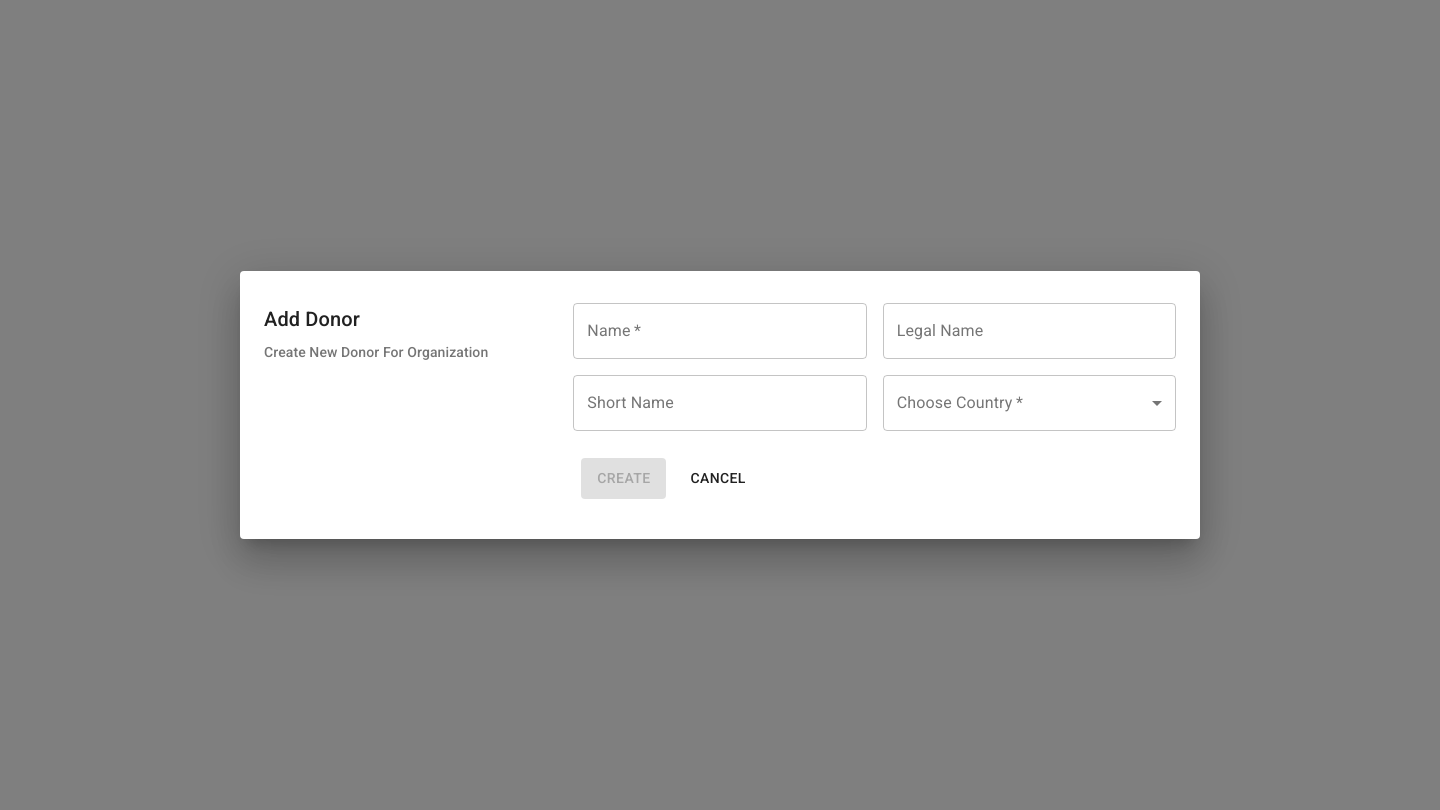
Test: Donor Dialog tests › Submit button enabled
Type "donor name" into the field with test id "donorNameInput" at coordinates (720, 331), box x1=573 y1=303 x2=867 y2=359
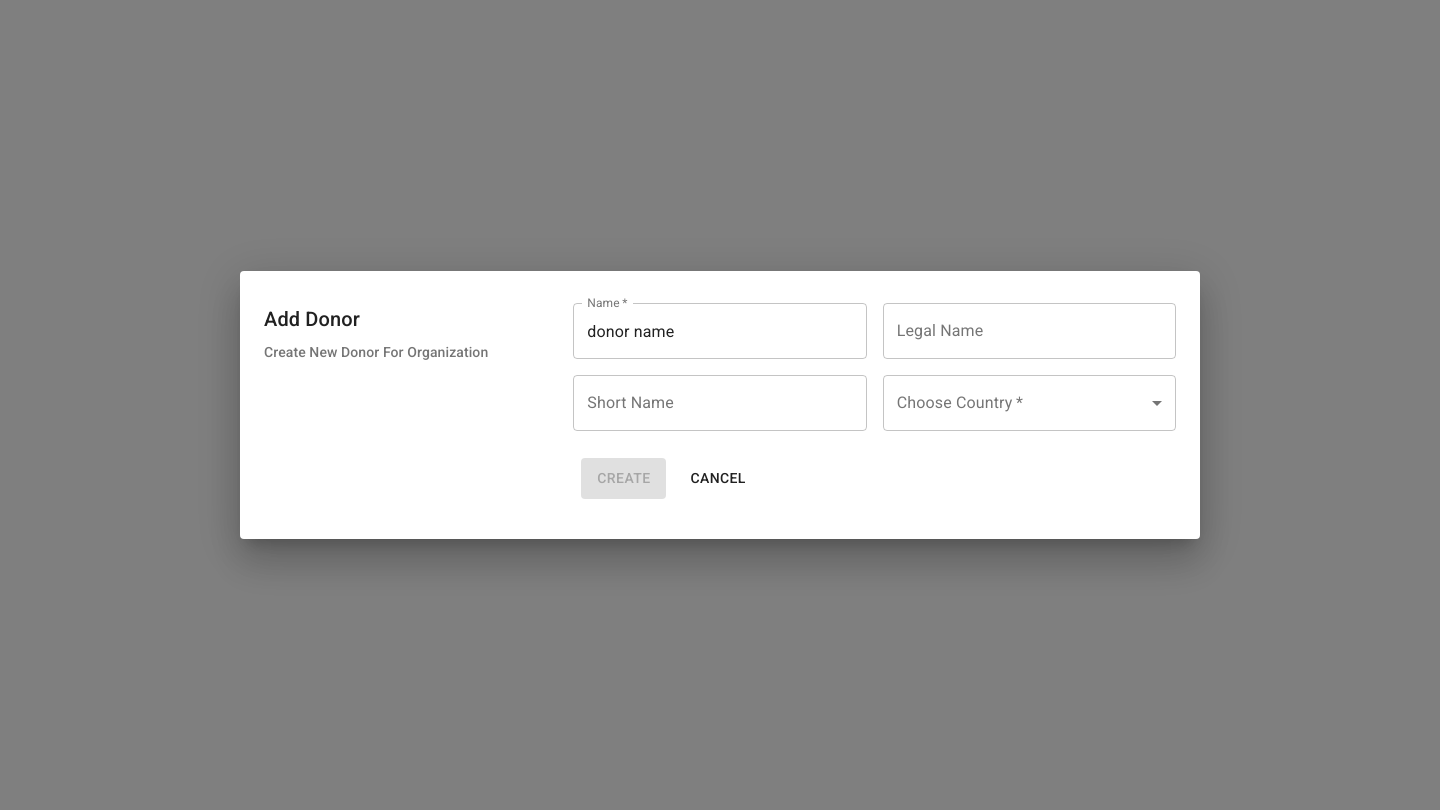
Type "legal name" into the field with test id "donorLegalNameInput" at coordinates (1029, 331), box x1=883 y1=303 x2=1176 y2=359
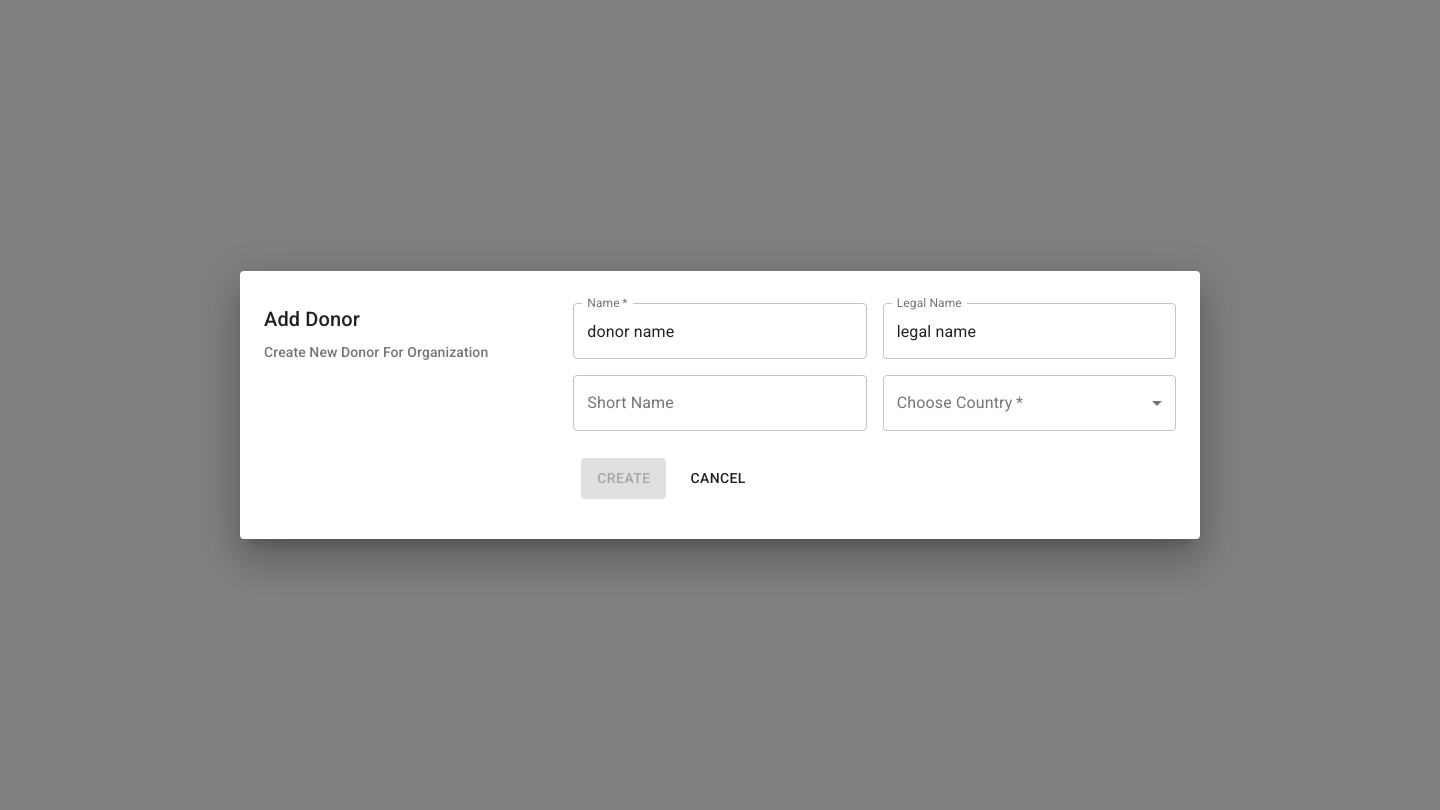
Type "donor short name" into the field with test id "donorShortNameInput" at coordinates (720, 403), box x1=573 y1=375 x2=867 y2=431
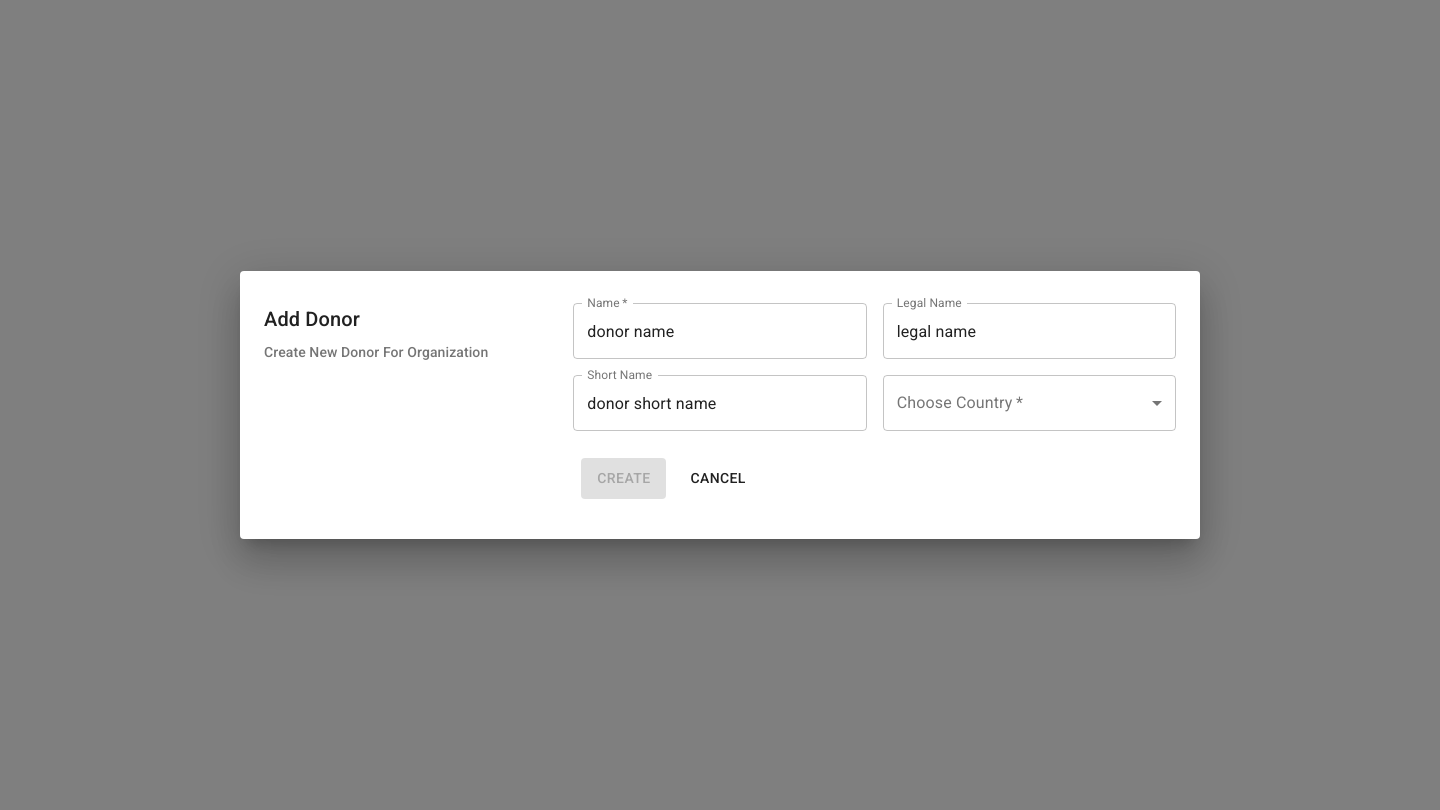
Replace the text in the field with test id "donorCountryOption" with "1" at coordinates (1029, 403), box x1=883 y1=375 x2=1176 y2=431
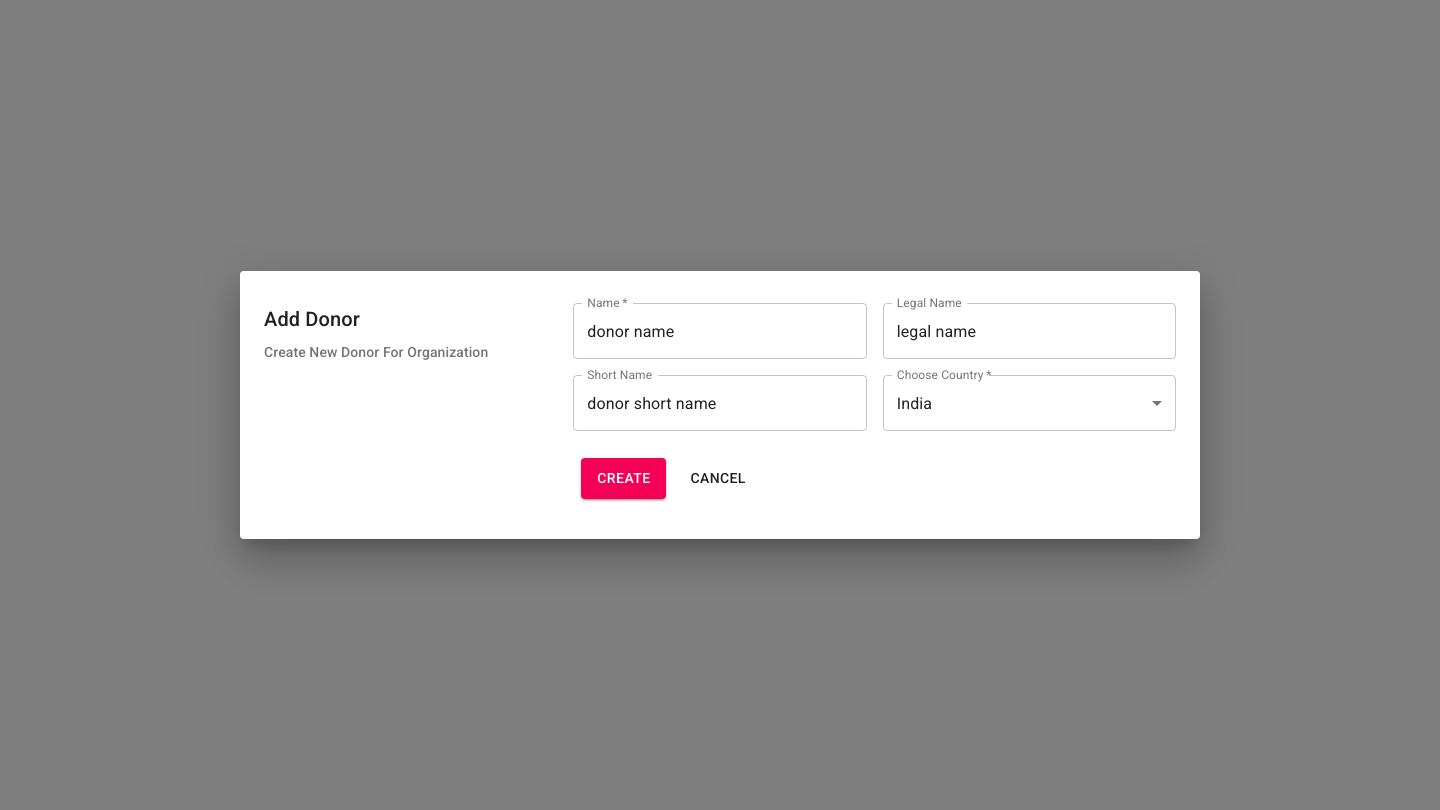
Expected: the button with test id "createSaveButton" is enabled, x1=581 y1=458 x2=666 y2=499
